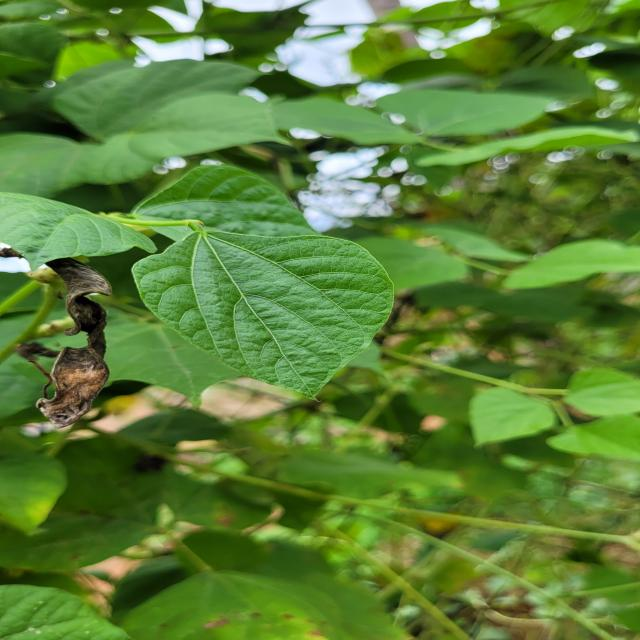Dolicos bean_healthy: (125, 229, 398, 399), (102, 78, 289, 158), (387, 68, 560, 140), (469, 383, 567, 444), (553, 359, 640, 427)
